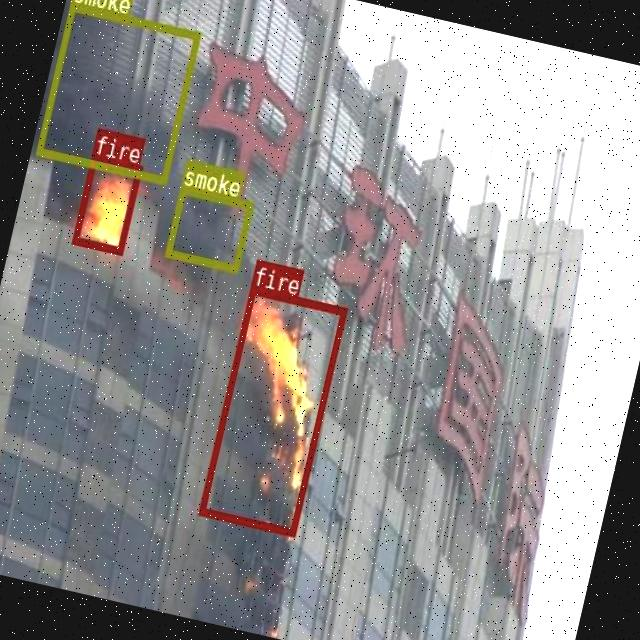fire: (197, 285, 346, 535), (70, 154, 141, 253)
smoke: (34, 2, 200, 184), (164, 185, 252, 272)
